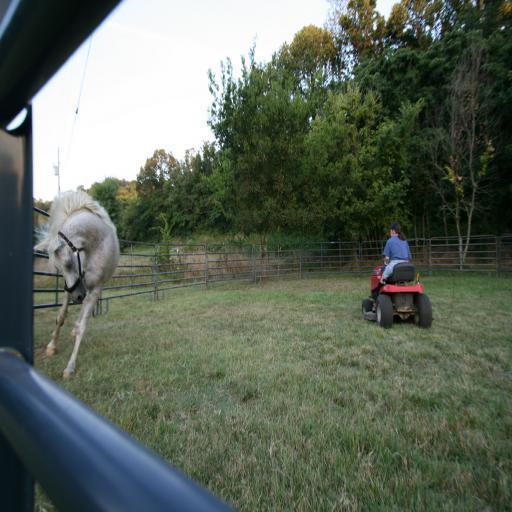horse: (32, 186, 122, 382)
